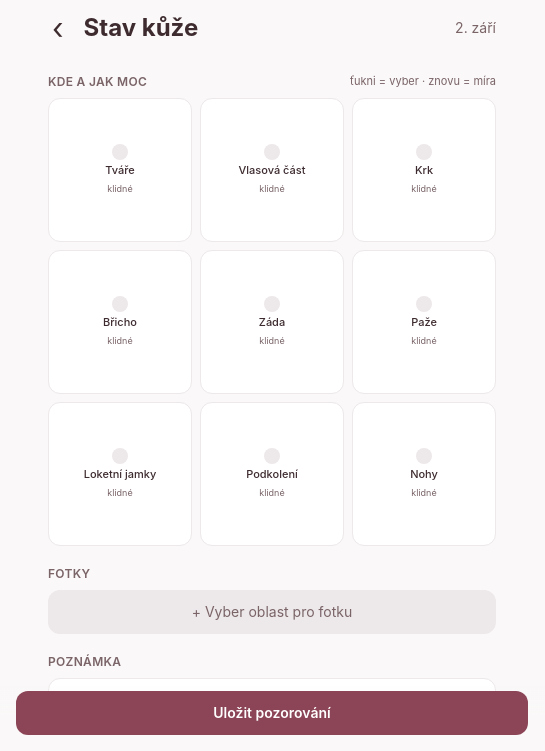
Test case: skin/+page.svelte — region grid › photo button appears when a region is active
Click the button with test id "skin-region-face" at (120,170), box [48,98,192,242]
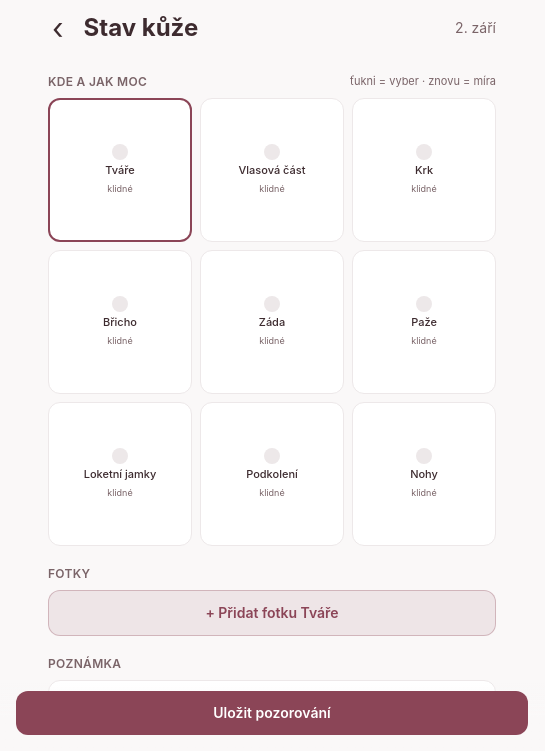
expect the file field with test id "skin-add-photo" is shown: met, box [48,590,496,636]
